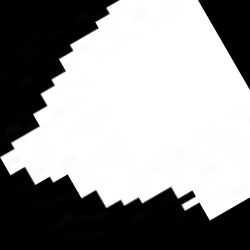spot: (2, 1, 249, 220)
